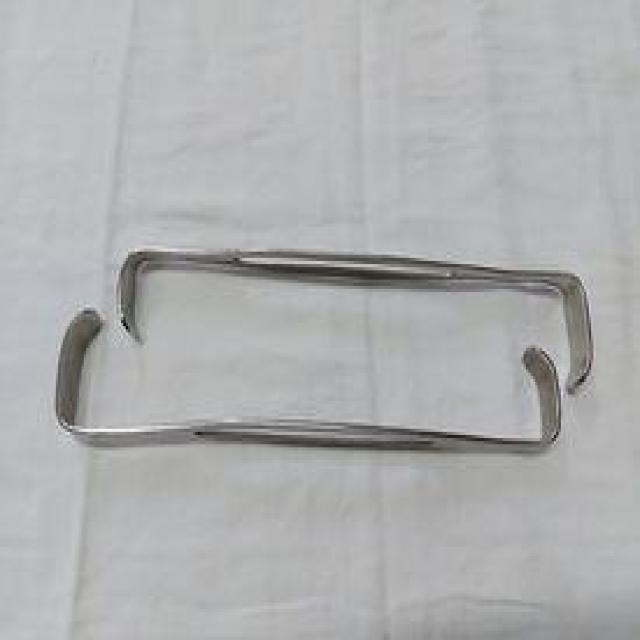Army_navy: (53, 304, 566, 460), (114, 242, 596, 398)
